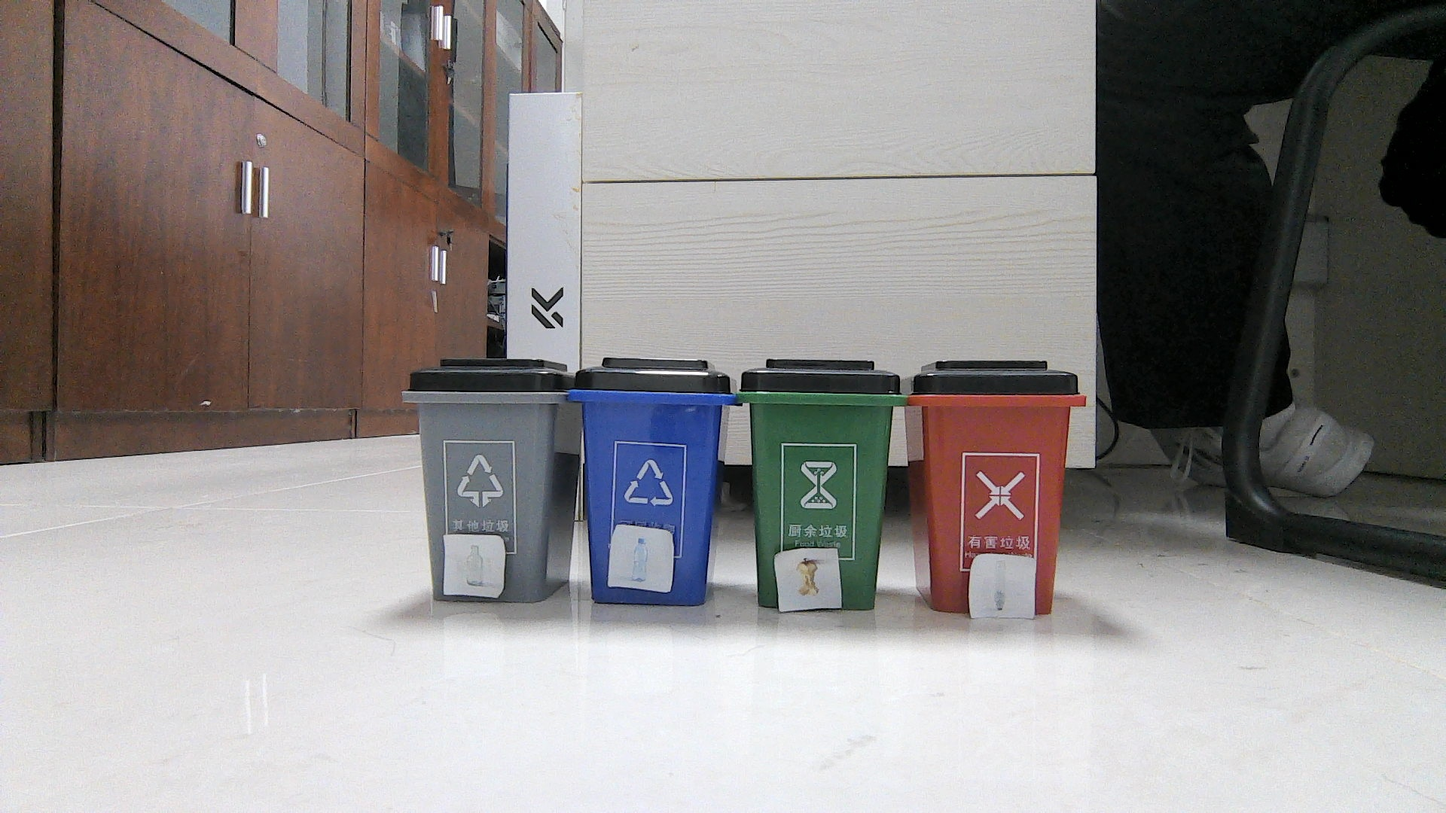food_trash: (781, 552, 835, 604)
hazardous_trash: (973, 558, 1029, 614)
recyclable_trash: (615, 528, 668, 586), (449, 538, 498, 591)
